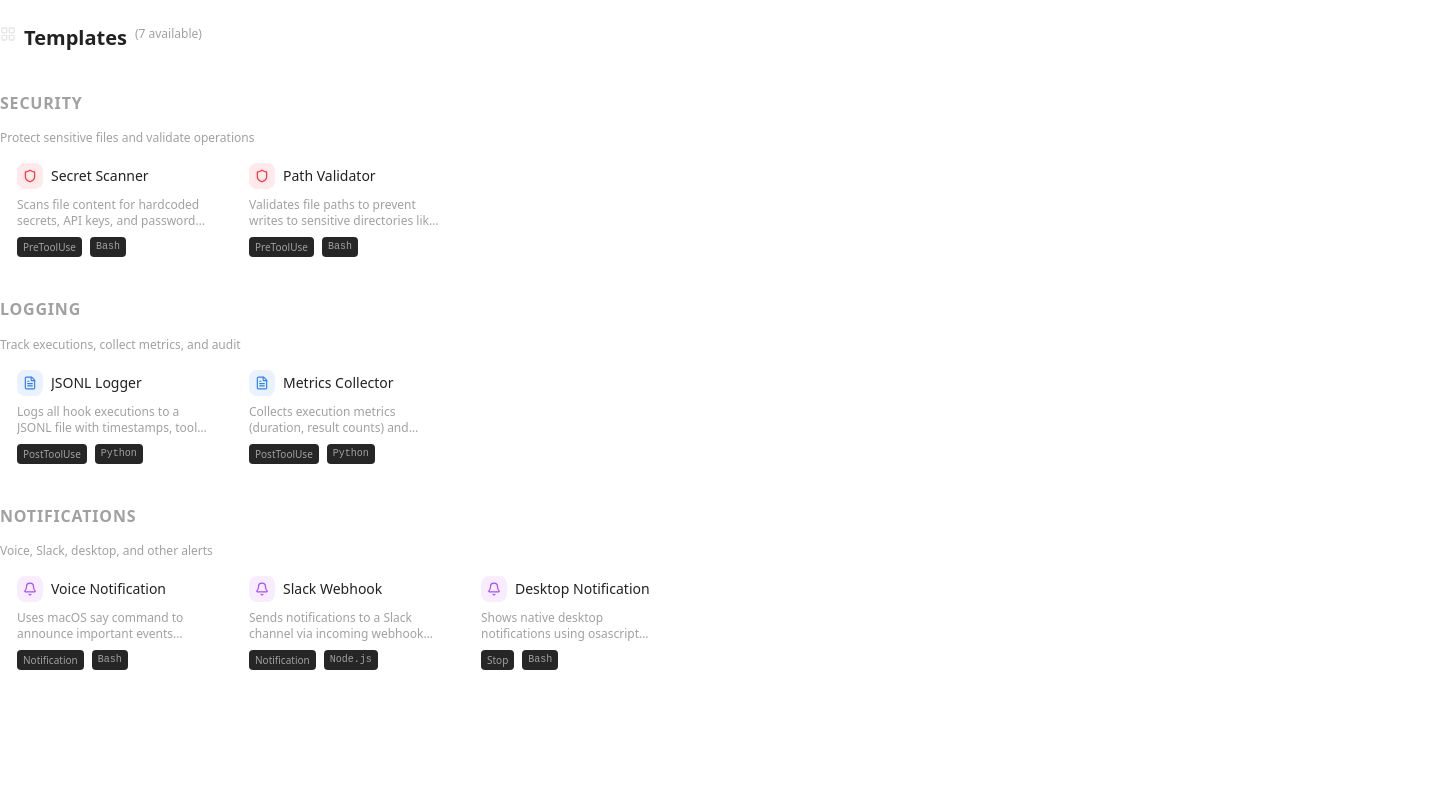
Test: HookTemplatesGallery › should show template preview when card is clicked
The width and height of the screenshot is (1440, 810).
Click the text "Secret Scanner".
click(100, 176)  # box [51, 166, 149, 186]
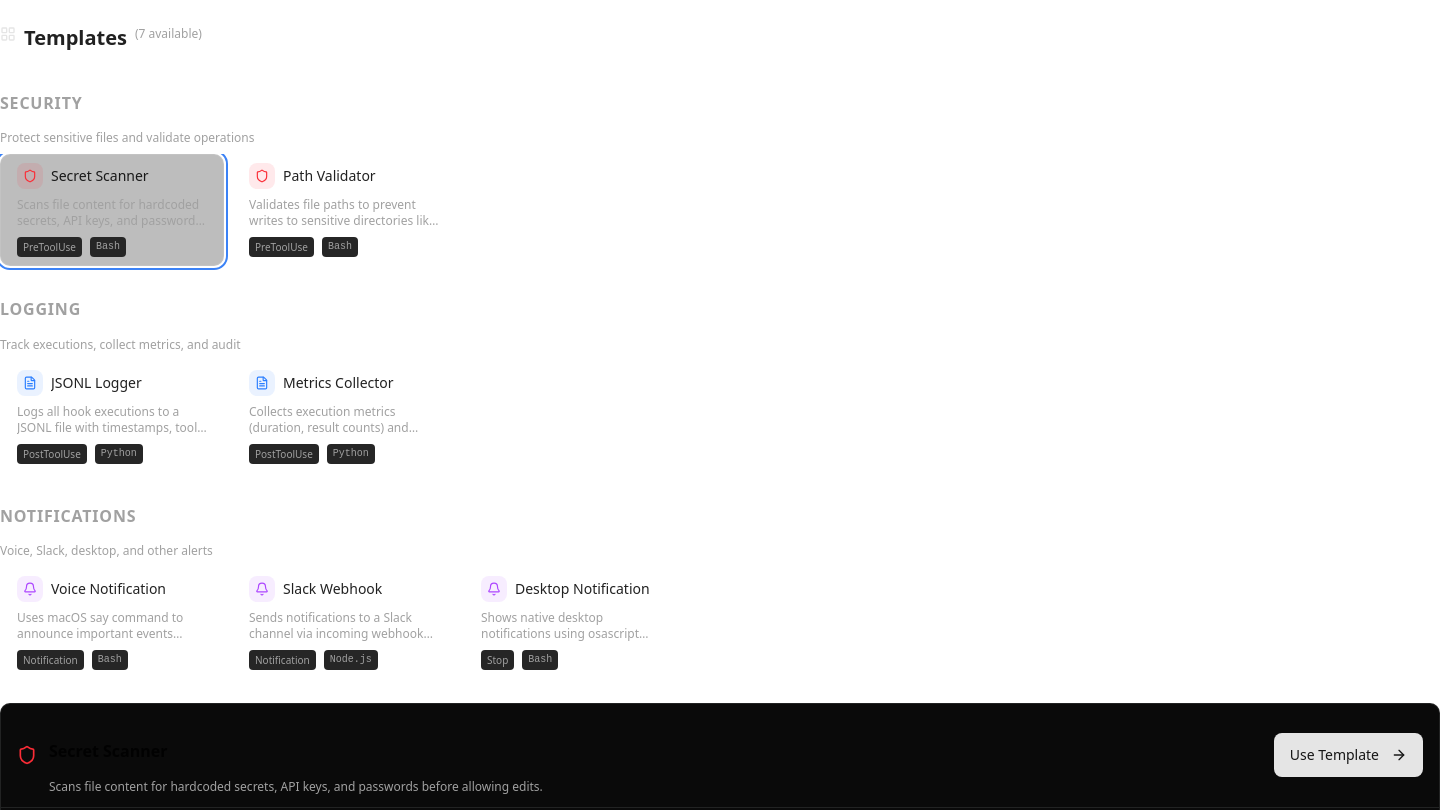
Expected: the button "Use Template" is shown, [1274, 733, 1423, 777]
